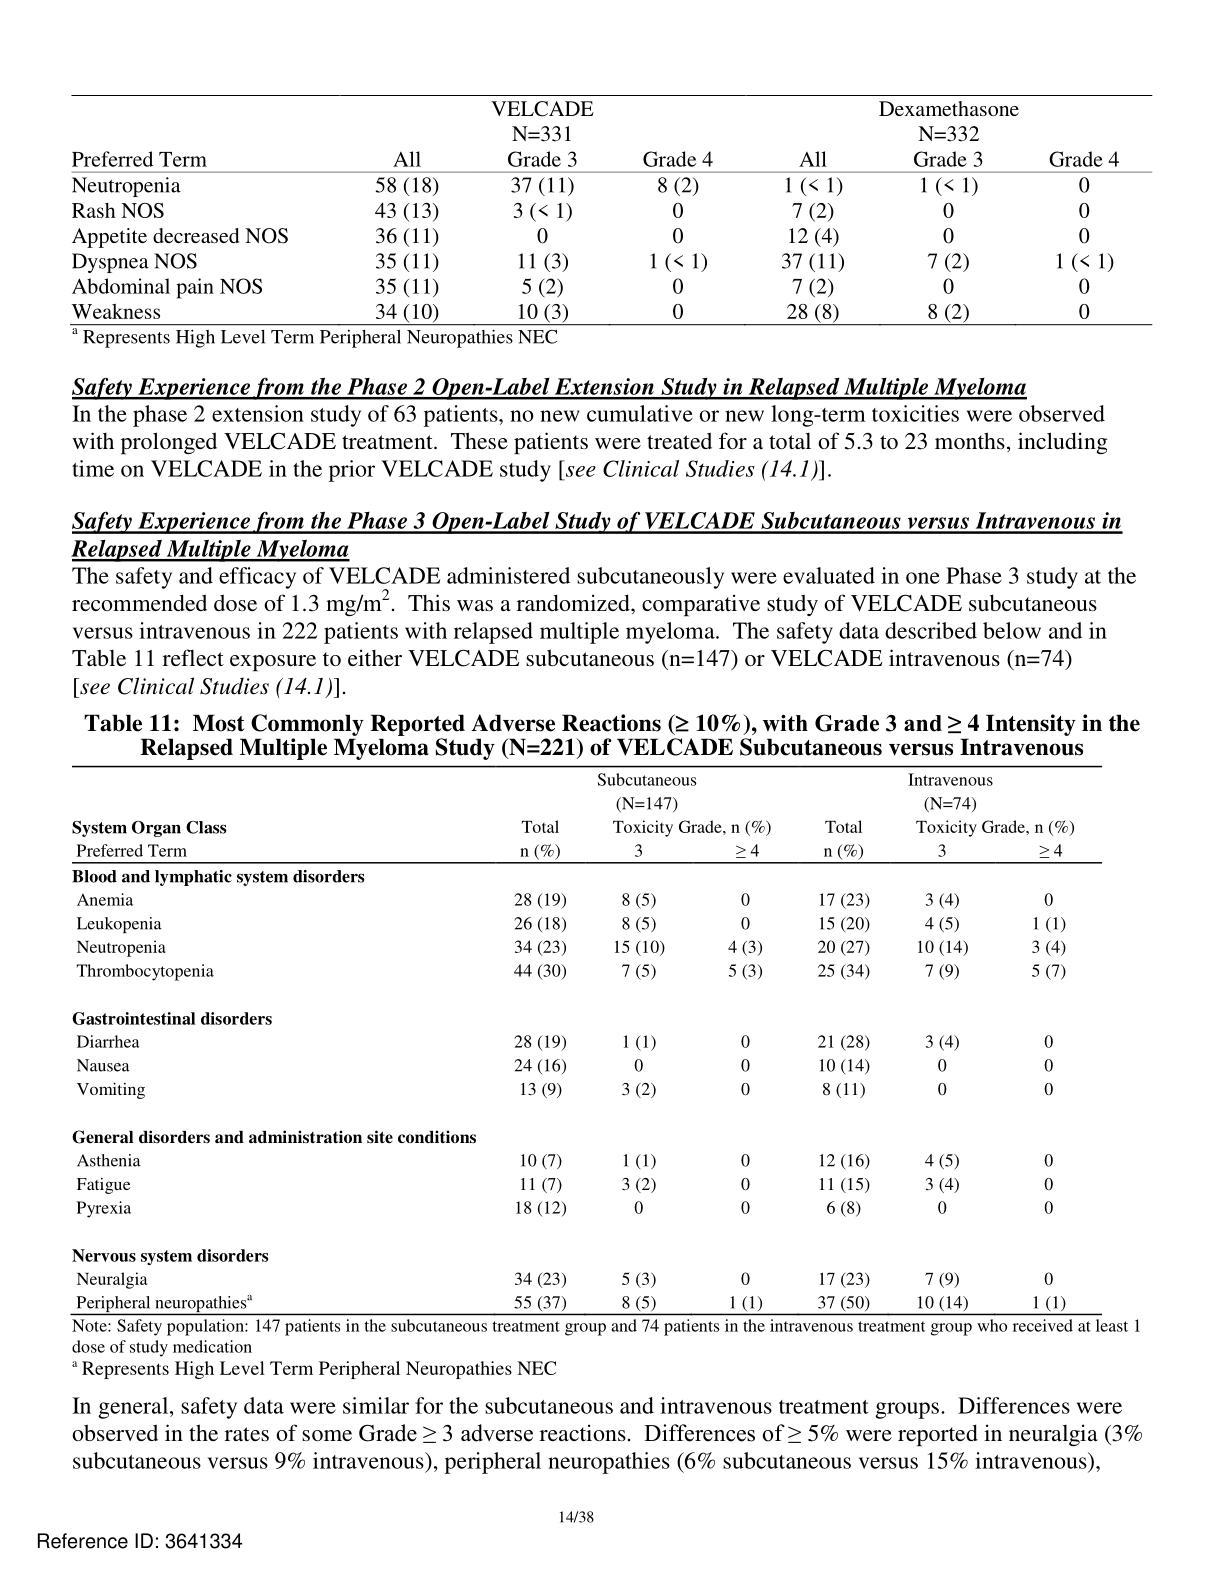partial_lined: (68, 93, 1153, 328)
partial_lined_merged_cells: (69, 764, 1104, 1317)
